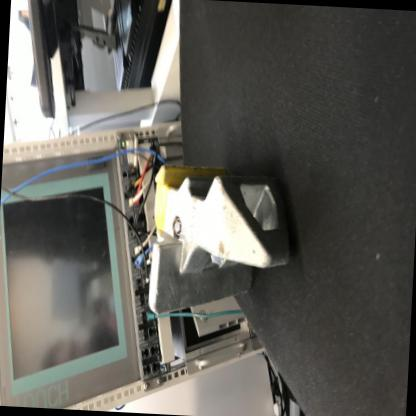Twistlock: (140, 158, 300, 334)
